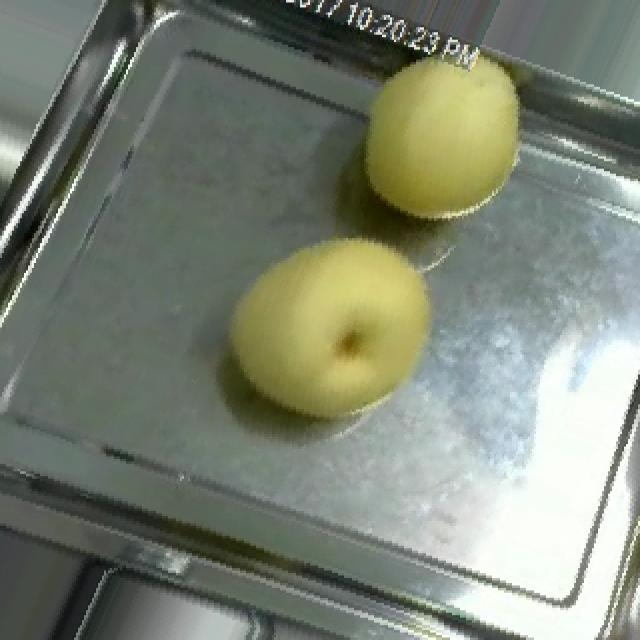Fruit: (188, 193, 470, 454), (322, 10, 554, 253)
